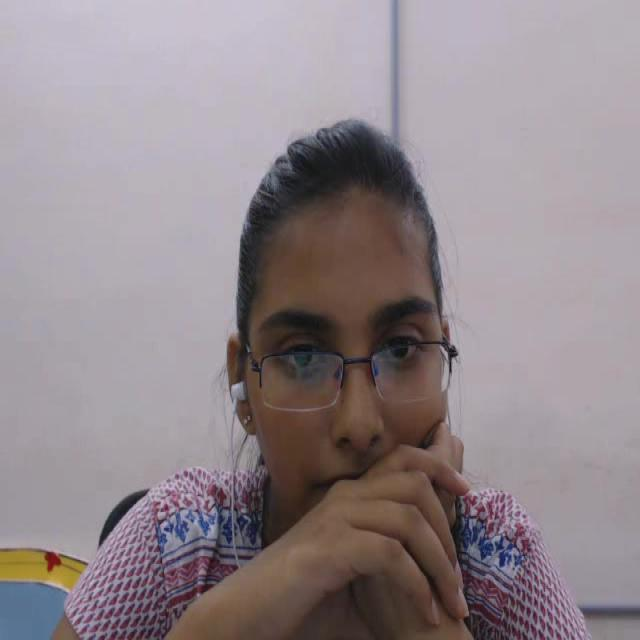Bored: (211, 118, 489, 572)
